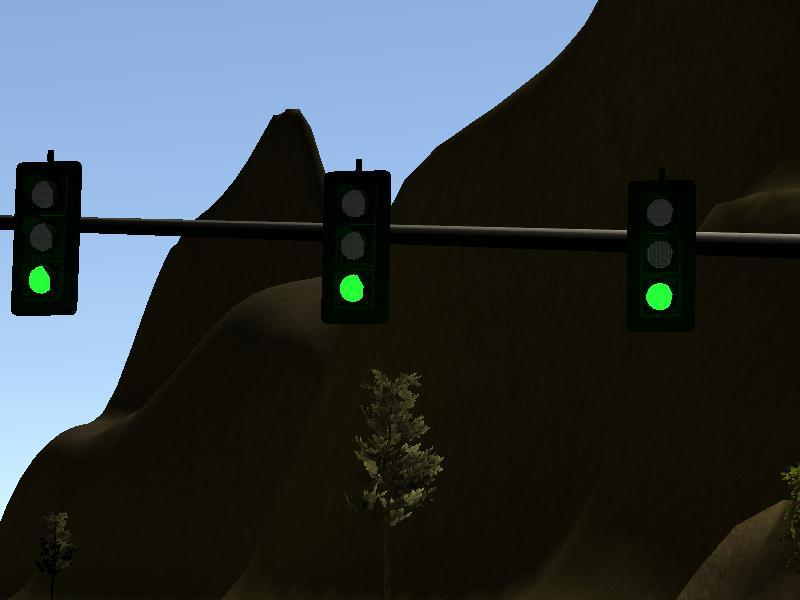Green: (15, 162, 75, 309), (629, 192, 688, 322), (324, 175, 375, 313)
